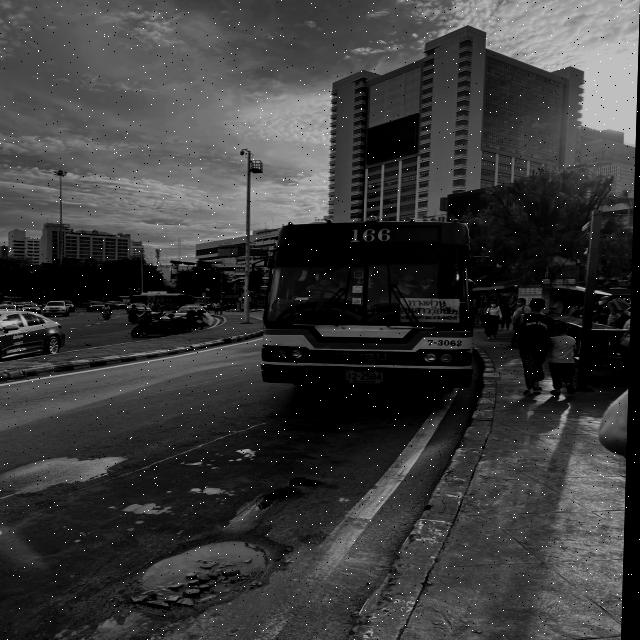BMTA-bus: (258, 212, 485, 396)
Bus-Line-Number: (348, 225, 397, 244)
Destination-Sign-Normal-Expressway: (401, 298, 462, 324)
